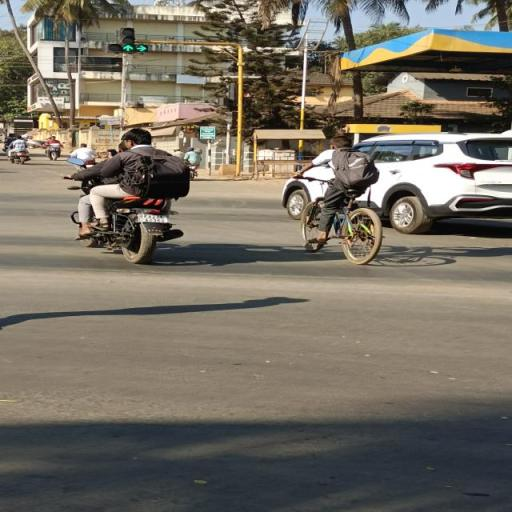bike: (64, 128, 194, 268)
numberplate: (139, 214, 168, 223)
withouthelmet: (125, 129, 150, 148)
